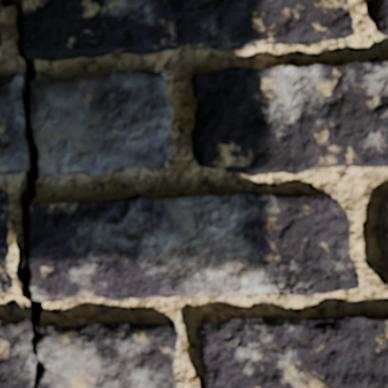brick: (30, 192, 358, 301), (192, 62, 387, 176), (23, 0, 354, 60), (200, 315, 387, 387), (0, 191, 12, 292), (378, 193, 387, 284), (371, 0, 387, 34)
broken_brick: (32, 69, 173, 178), (38, 321, 180, 387), (0, 71, 26, 175), (0, 318, 35, 387)
crack: (1, 0, 47, 387), (267, 262, 345, 296), (48, 76, 95, 84), (377, 336, 387, 341), (169, 384, 174, 387)
